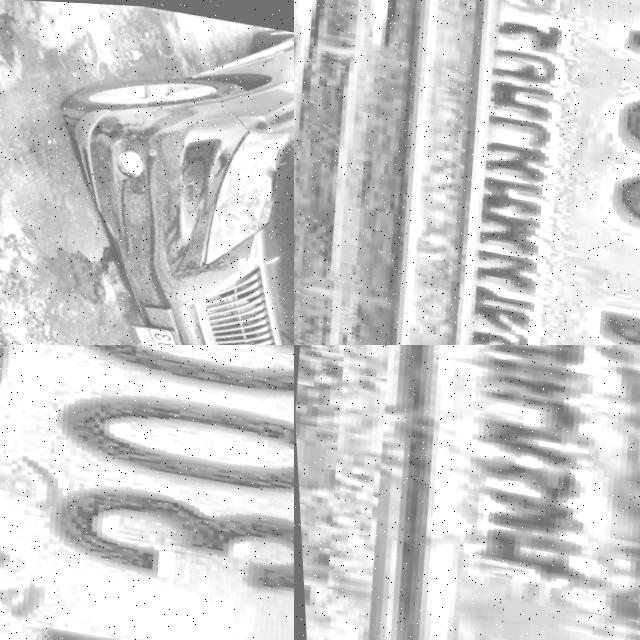license-plate: (350, 0, 640, 345), (0, 345, 294, 640), (357, 345, 640, 640), (113, 317, 204, 345)
